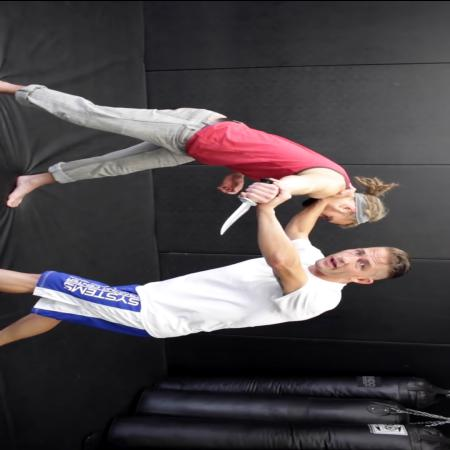long weapon: (214, 174, 282, 236)
